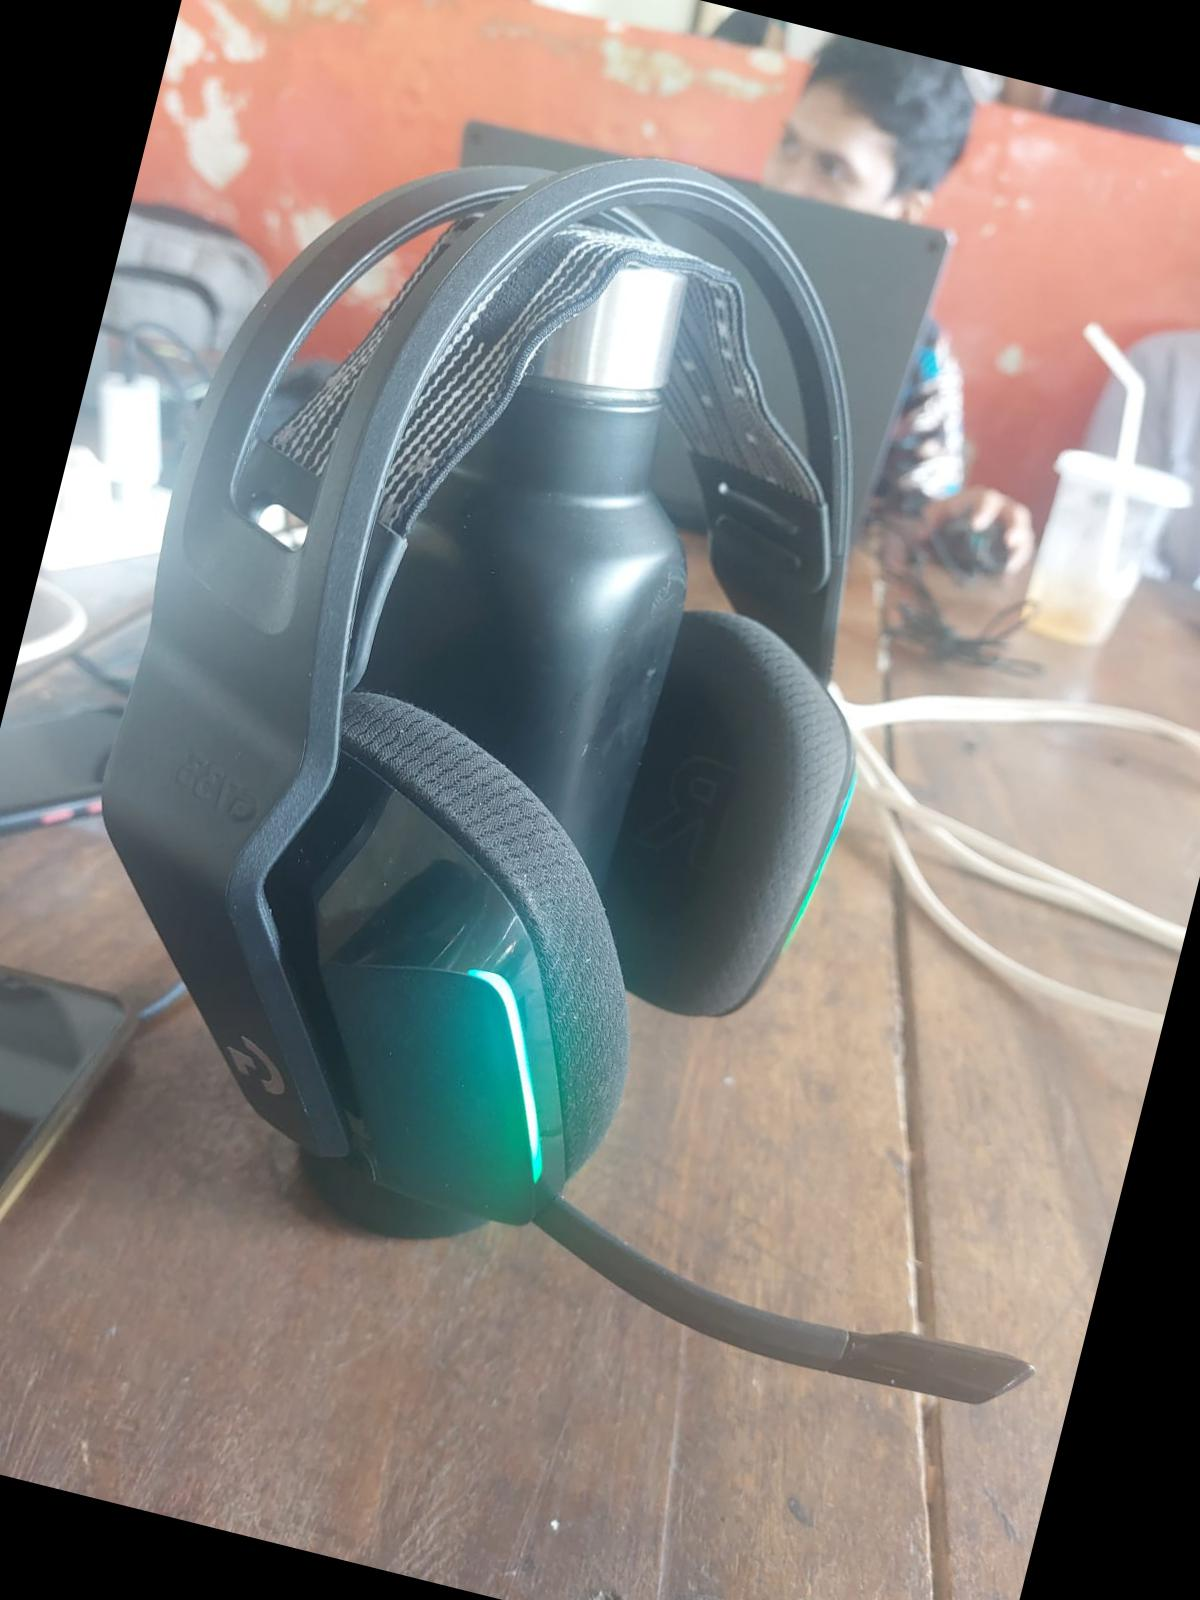Headset: (0, 42, 1199, 1459)
